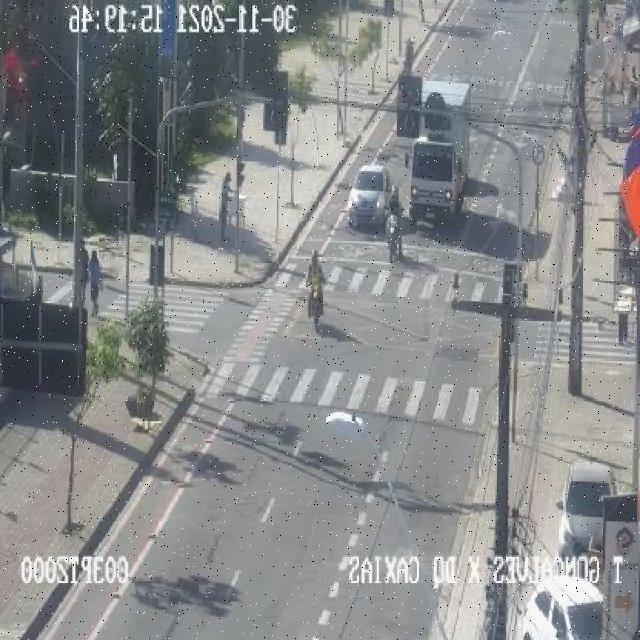Car: (502, 570, 613, 640), (557, 466, 620, 564), (338, 171, 402, 232)
Cycle: (293, 249, 339, 324)
Truck: (408, 75, 478, 238)
